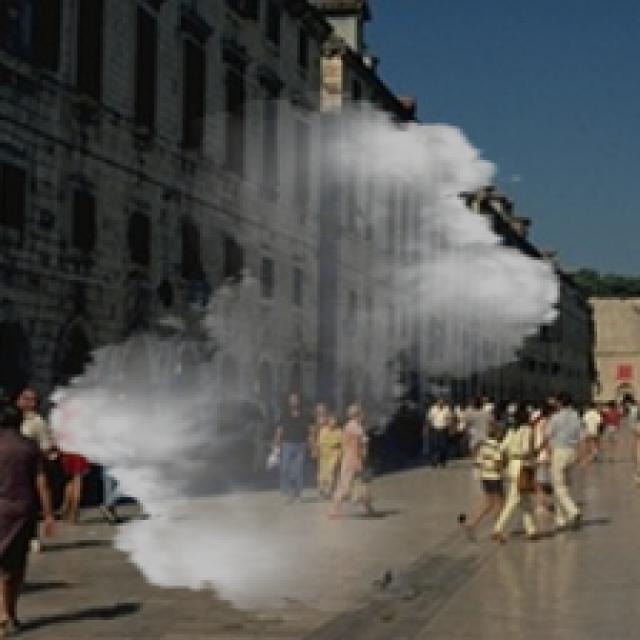smoke: (29, 91, 580, 620)
